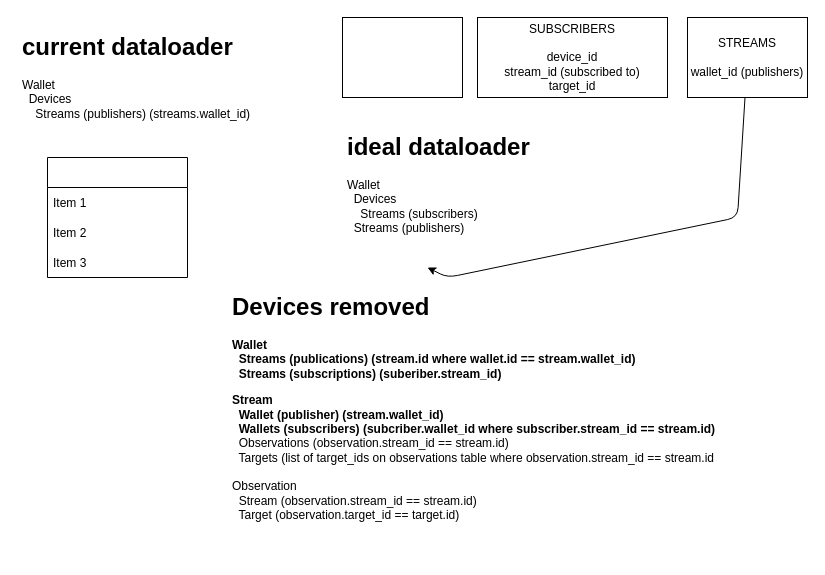
The diagram is 825 pixels wide and 575 high, and some of its shapes have lost their labels. The box of each missing label's shape, as (x1, y1, x2, y2) in pixels:
DEVICES wallet_id (subscribers): (342, 16, 462, 98)
to do: (46, 156, 188, 278)
